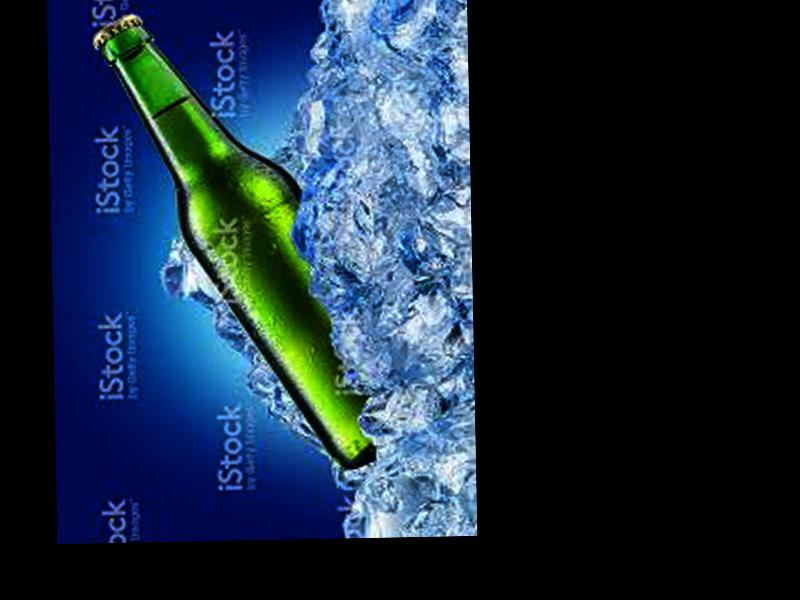Beer: (89, 4, 376, 475)
